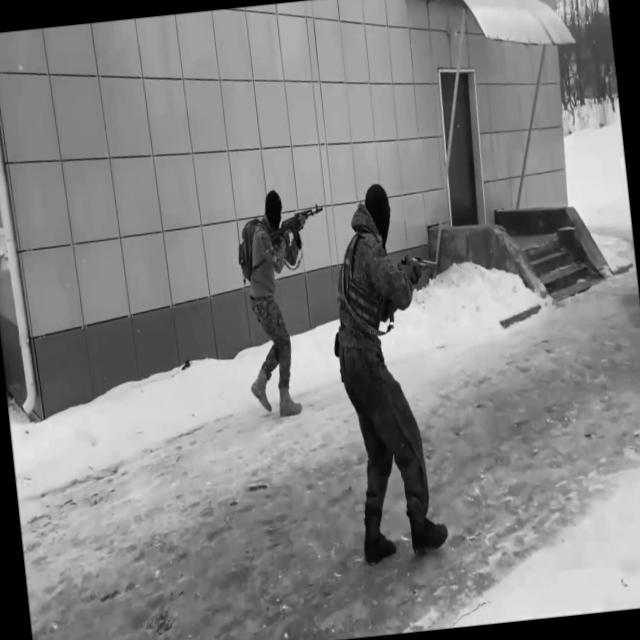gun: (266, 200, 328, 253), (394, 248, 442, 285)
person with a gun: (317, 175, 471, 568), (230, 182, 345, 420)
